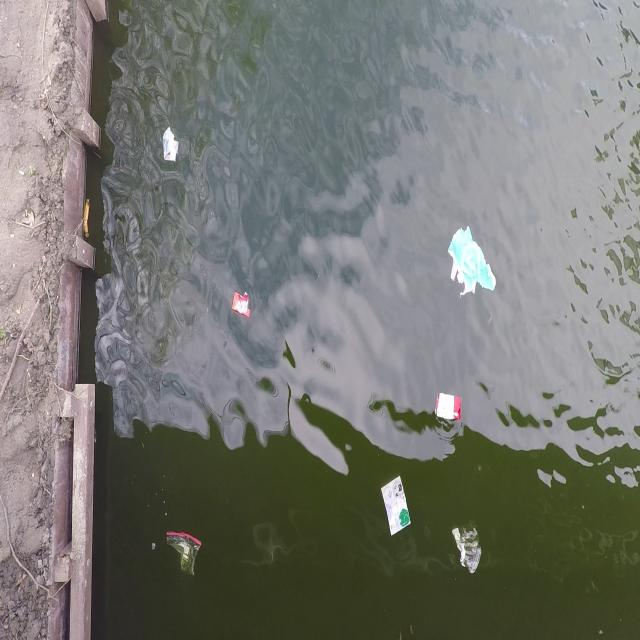Autre plastique: (427, 384, 466, 433), (230, 283, 256, 327)
Sac plastique: (440, 215, 499, 302), (162, 524, 206, 588), (450, 518, 486, 578)
